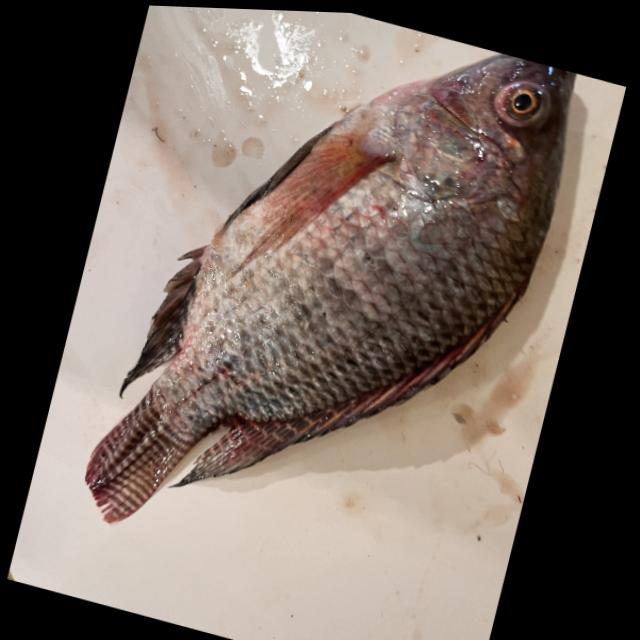Tilapia: (69, 3, 589, 621)
